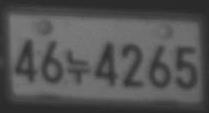2: (121, 43, 145, 87)
4: (94, 42, 120, 88), (14, 38, 39, 82)
5: (175, 45, 198, 89)
6: (41, 40, 64, 84), (148, 45, 170, 88)
누: (66, 48, 91, 84)
